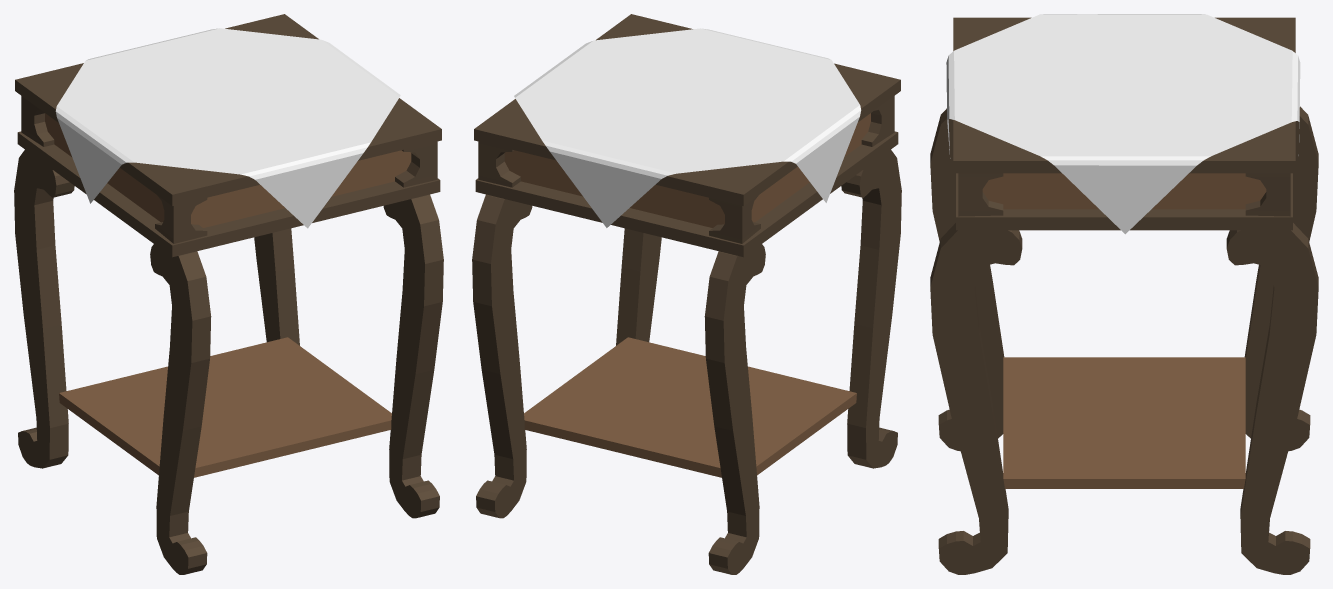
File: SM_Table_05.glb
The picture shows the model from 3 angles, left to right: view 1: azimuth 30°, elevation 25°; view 2: azimuth 150°, elevation 25°; view 3: azimuth 270°, elevation 25°; orthographic projection. The views are drawn at different scales.
Parts seen in each view (by area): view 1: SM_Table_05; view 2: SM_Table_05; view 3: SM_Table_05.
Part boxes in pixels (x1,y1,x2,y2): SM_Table_05: [14, 14, 443, 574]; SM_Table_05: [472, 14, 901, 574]; SM_Table_05: [930, 14, 1318, 574].
Size of the model in its own units: 0.5031 by 0.6675 by 0.5567.
Materials: 1 (1 with a texture image).
